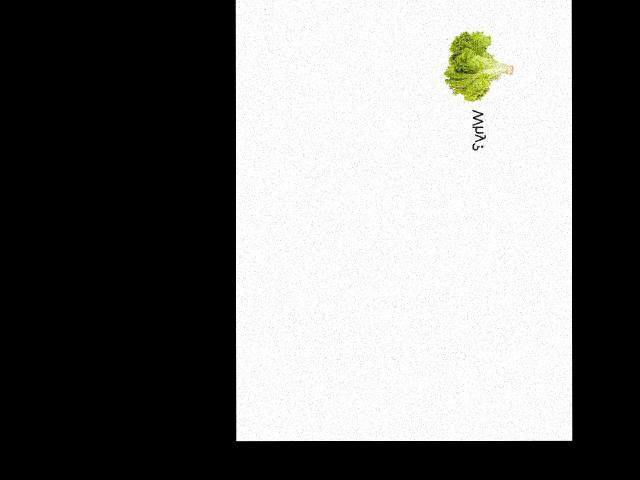lettuce: (438, 28, 519, 141)
